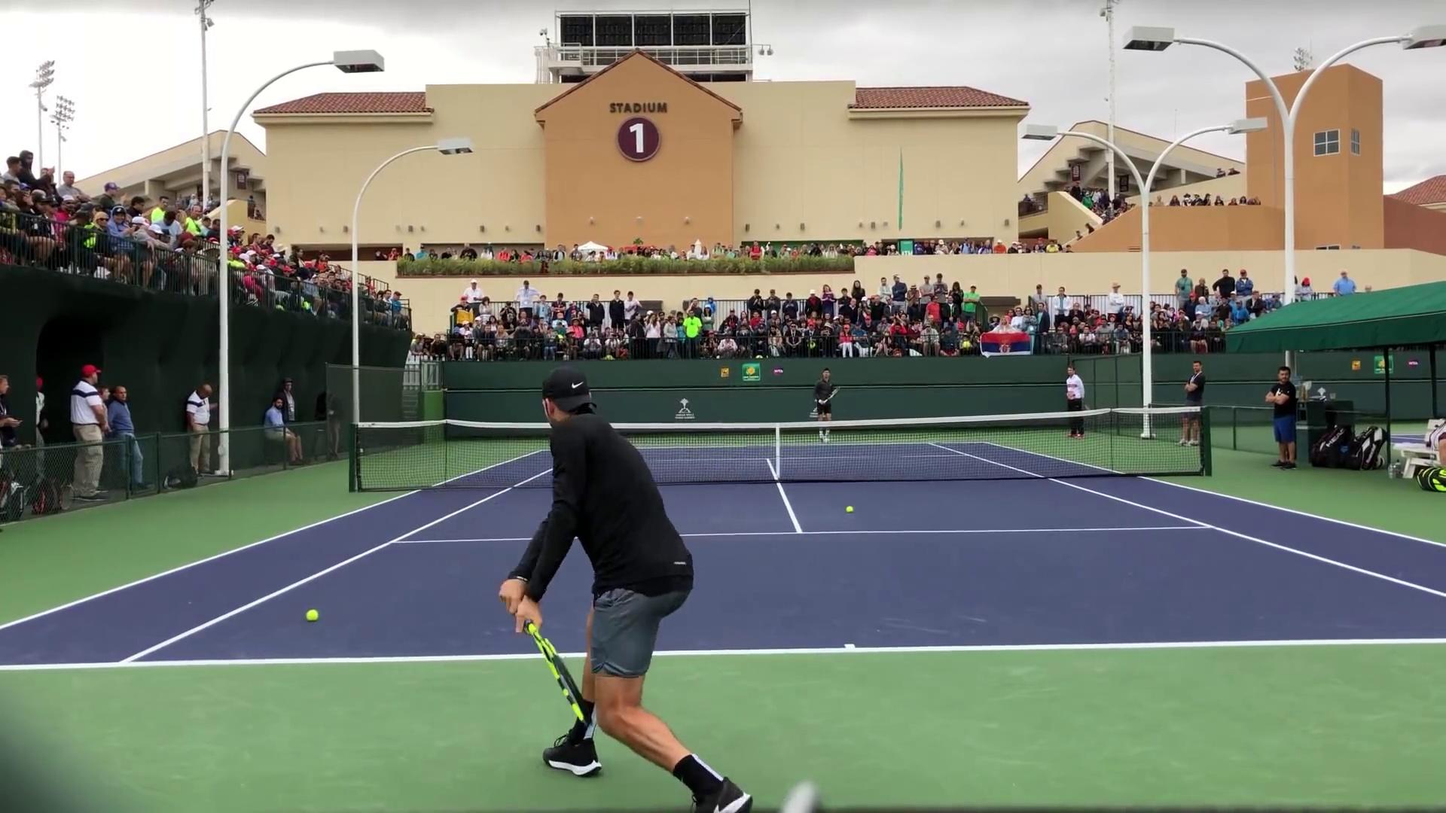ball: (305, 609, 318, 621), (845, 506, 854, 513)
